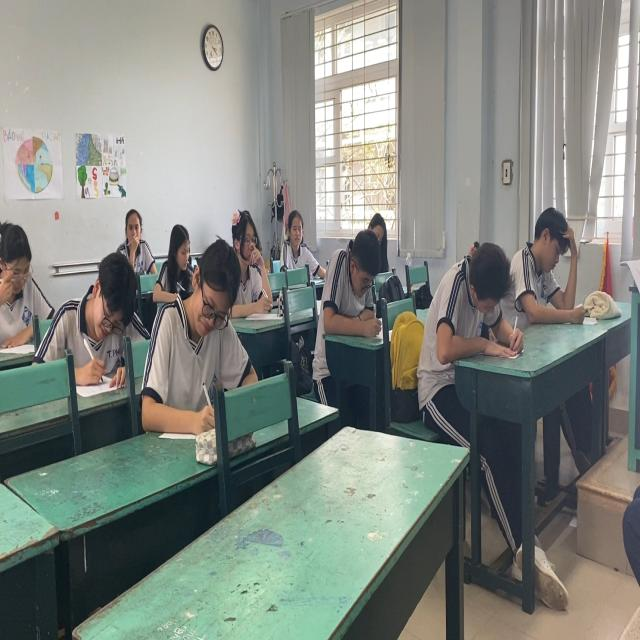not_cheating: (63, 257, 155, 391), (178, 243, 250, 405), (421, 232, 503, 361), (0, 212, 62, 354), (512, 211, 586, 326), (318, 222, 391, 333), (225, 212, 272, 296), (118, 190, 156, 278), (157, 218, 196, 298), (281, 202, 322, 270)
